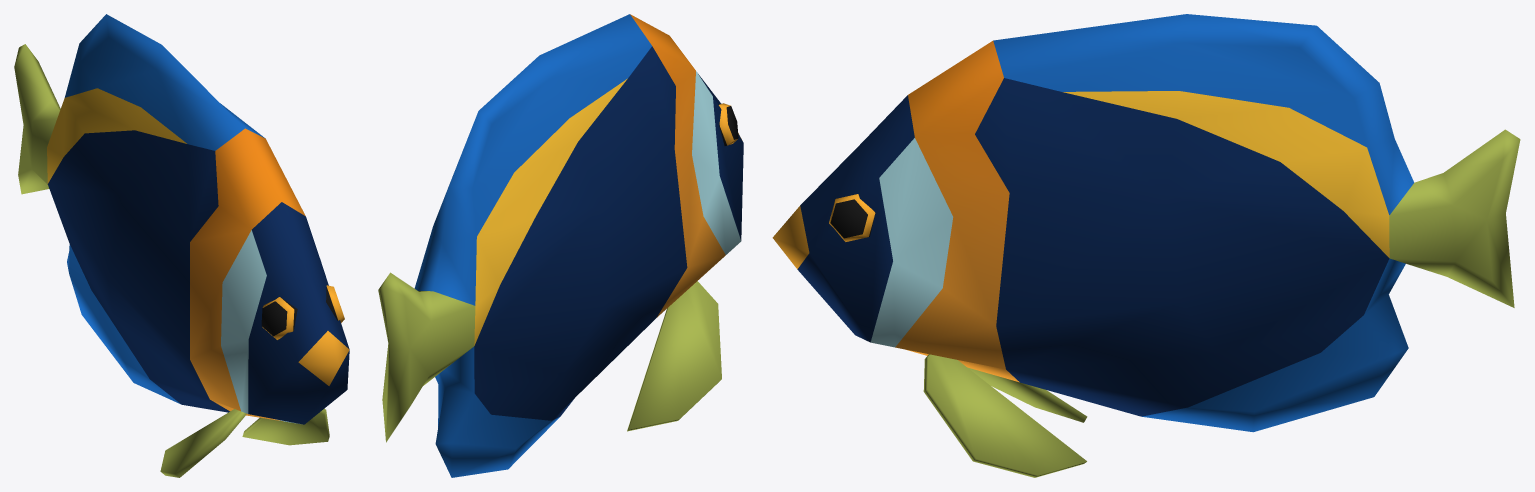
The model's file is BlueOrangeFish.fbx.
The picture shows the model from 3 angles, left to right: view 1: azimuth 30°, elevation 25°; view 2: azimuth 150°, elevation 25°; view 3: azimuth 270°, elevation 25°; orthographic projection. The views are drawn at different scales.
Visible parts, largest first — view 1: Fish_025; view 2: Fish_025; view 3: Fish_025.
Boxes of the visible parts, box(x1,y1,x2,y2) form: Fish_025: box(14, 14, 349, 477); Fish_025: box(378, 14, 743, 477); Fish_025: box(772, 14, 1520, 477).
Bounding box in the file's own units: 13.55 × 30.82 × 48.65.
